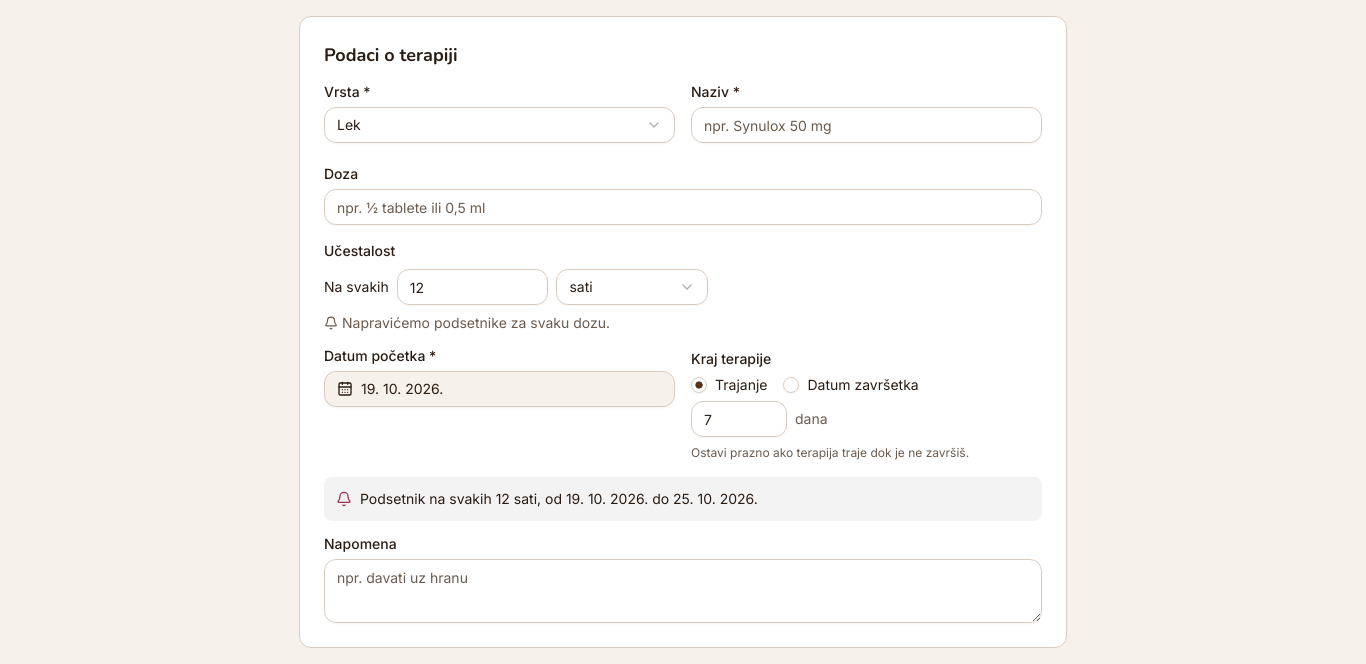
Test case: S27 — new treatment › 422 before_start on ends_on → inline; an unmapped failure → the X error state
In the field labelled "Naziv *": [866, 125] box [691,107,1042,143], type "Synulox"
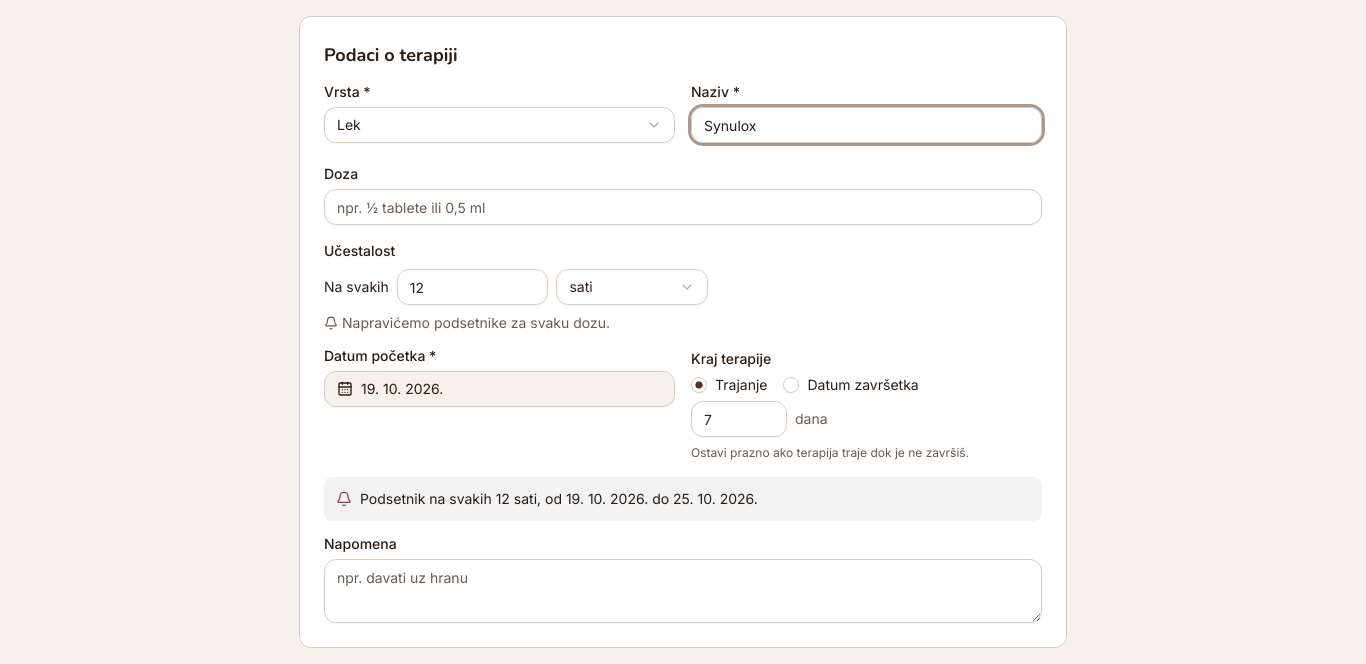
Click the radio button named "Datum završetka" next to "Datum završetka": [792, 385] box [784,377,800,393]
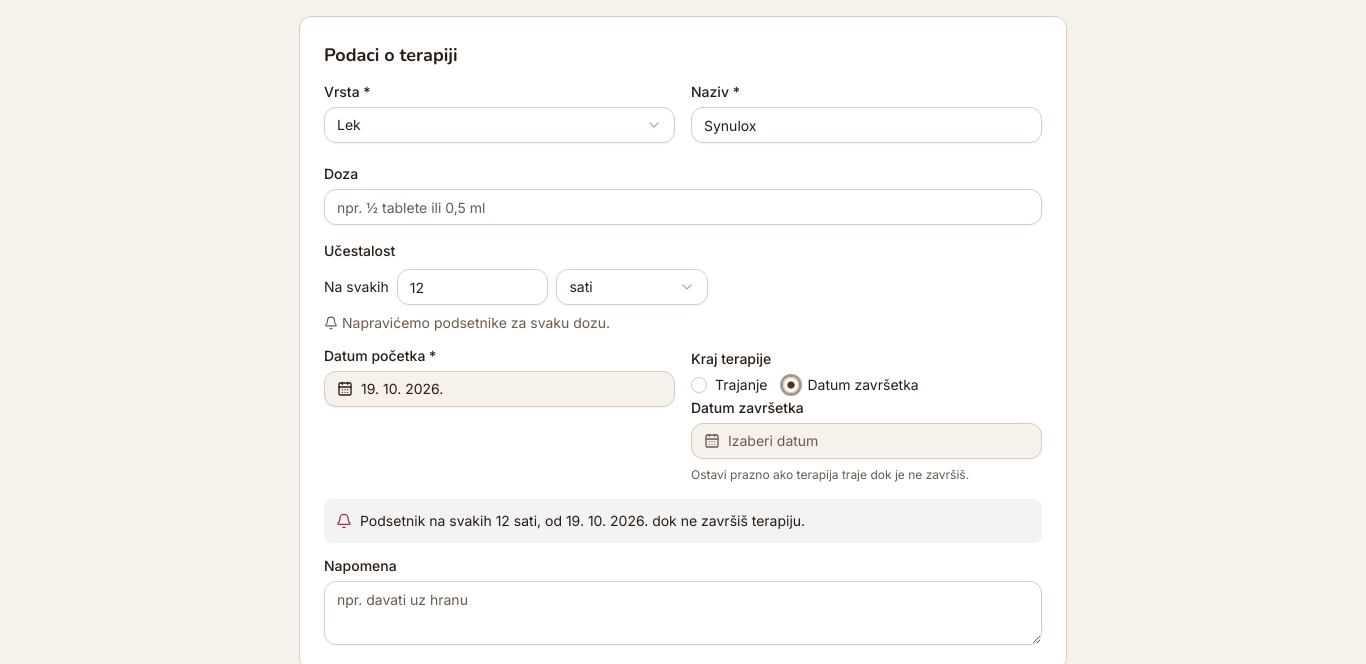
Click the button named "Datum završetka": [773, 440] box [691,423,1042,459]
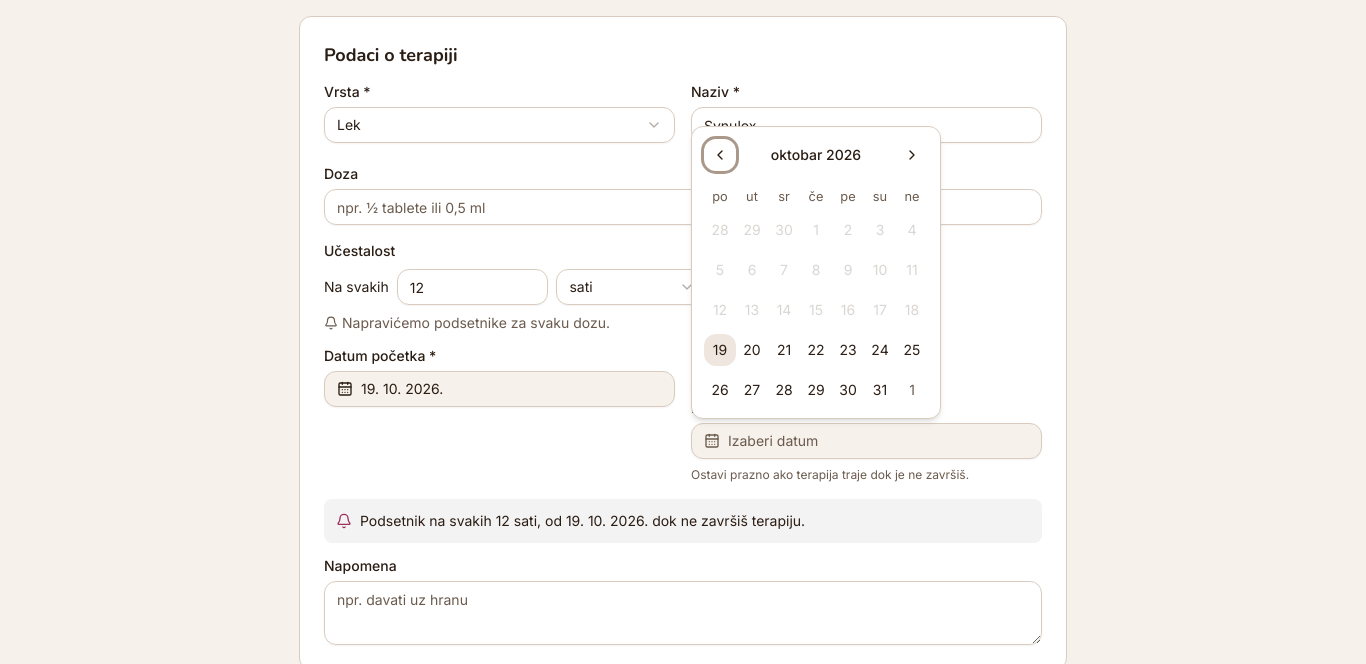
Click the button "25": [912, 350] box [896,334,928,366]
(page scrolled)
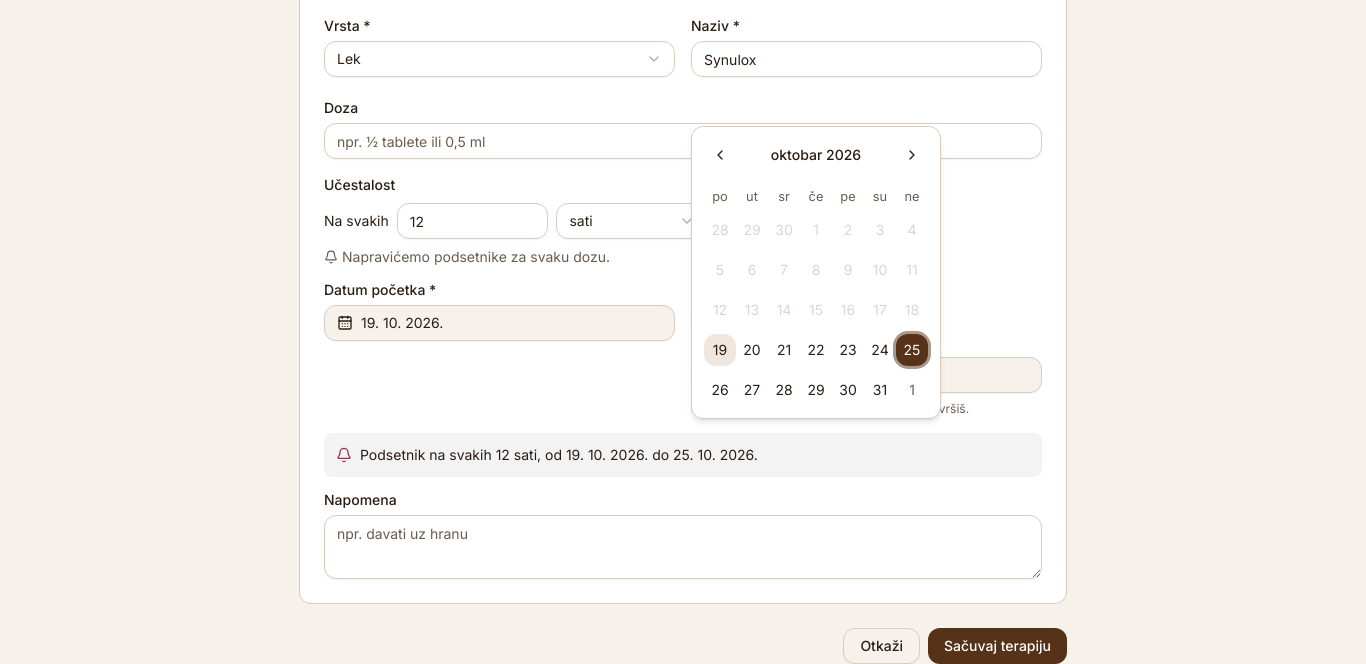
Click the button "Sačuvaj terapiju": [998, 646] box [928,628,1067,663]
(page scrolled)
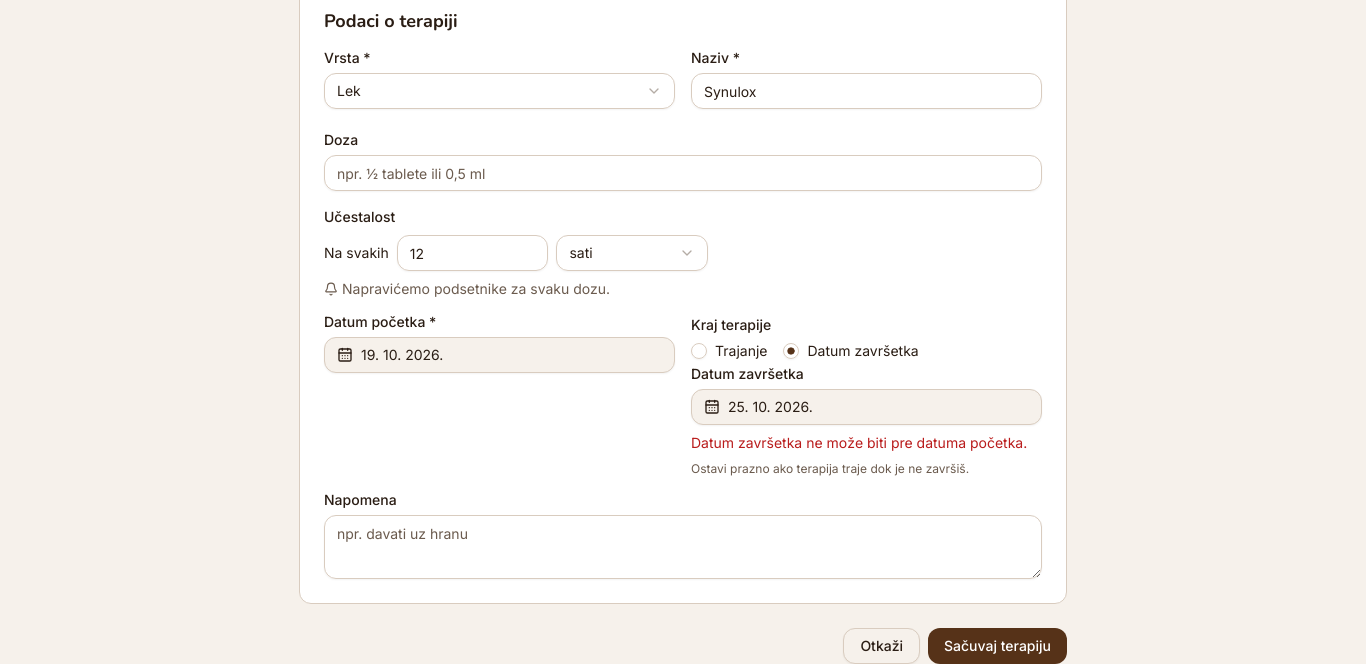
Now the text "Datum završetka ne može biti pre datuma početka." is shown, box [691,433,1042,453]
Click the button "Sačuvaj terapiju": [998, 646] box [928,628,1067,663]
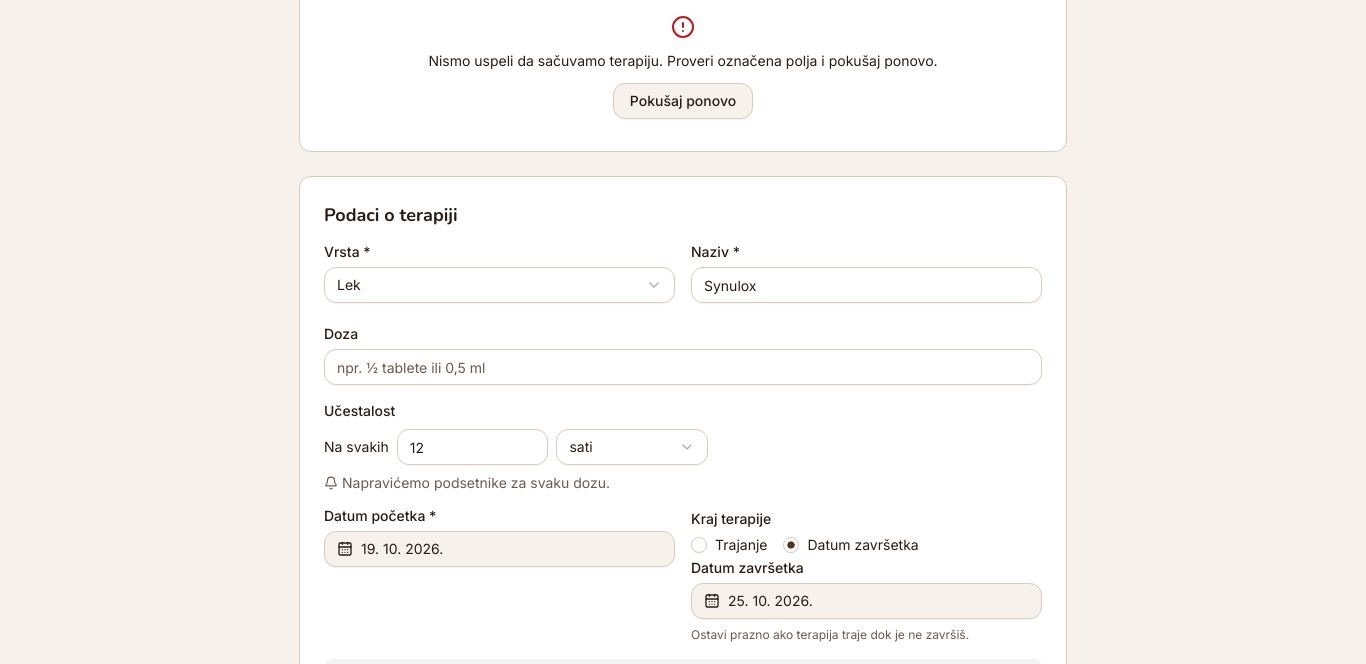
Now the text "Nismo uspeli da sačuvamo terapiju. Proveri označena polja i pokušaj ponovo." is shown, box [428,51,938,71]
